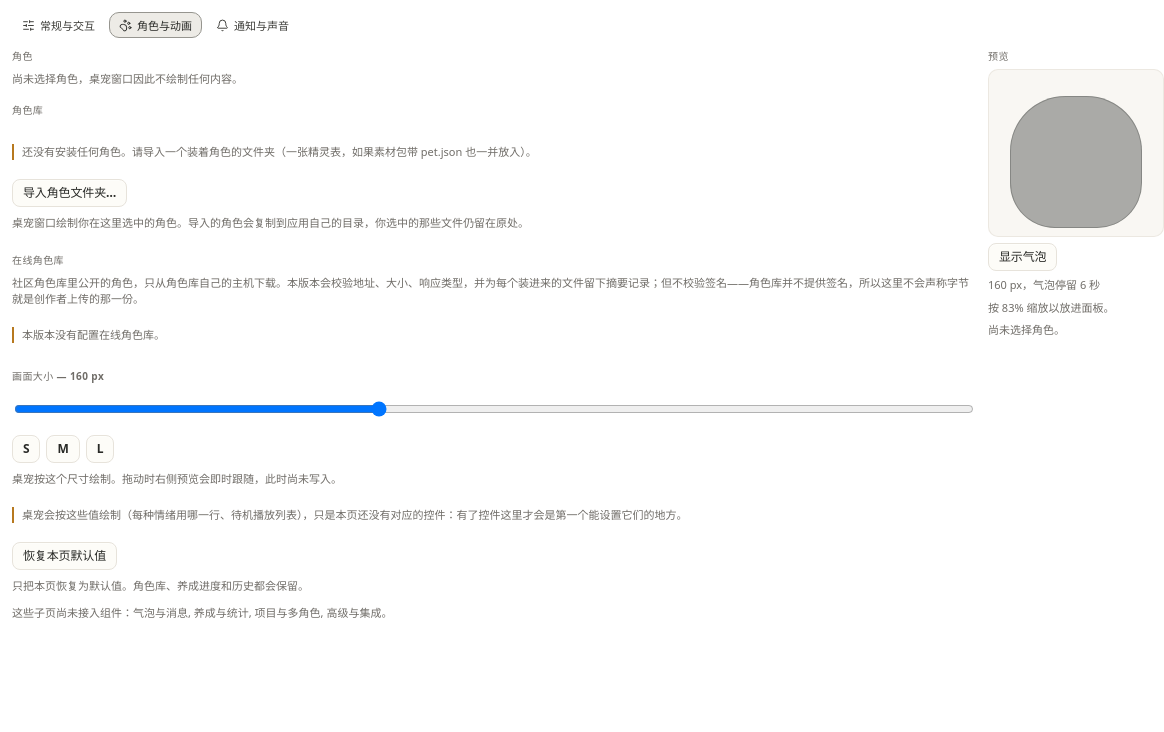
Test: the character library, and what is still only stated › imports a character and selects what arrived
Step 1. Click the button "导入角色文件夹…" → (70, 193), box [12,179,127,207]
Wait 600 ms
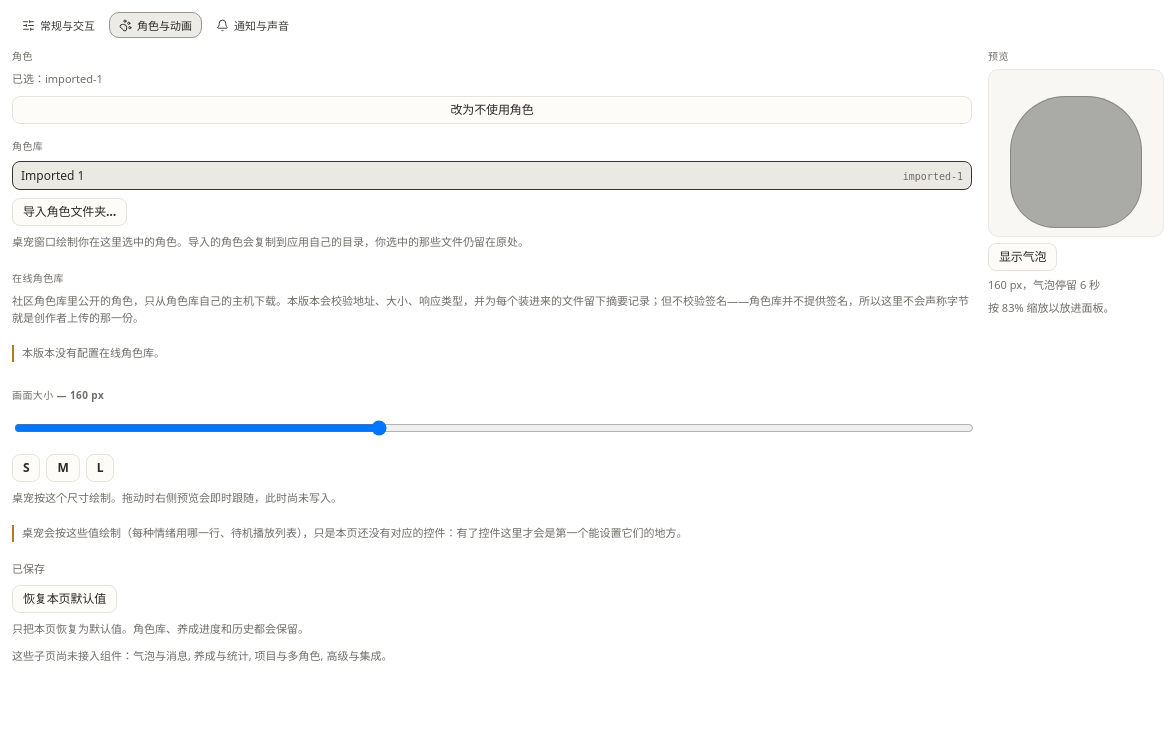
Check: the text "imported-1" is shown, box [903,170,963,182]
Check: the button with test id "pet-character-row-imported-1" is shown, box [12,160,972,190]
